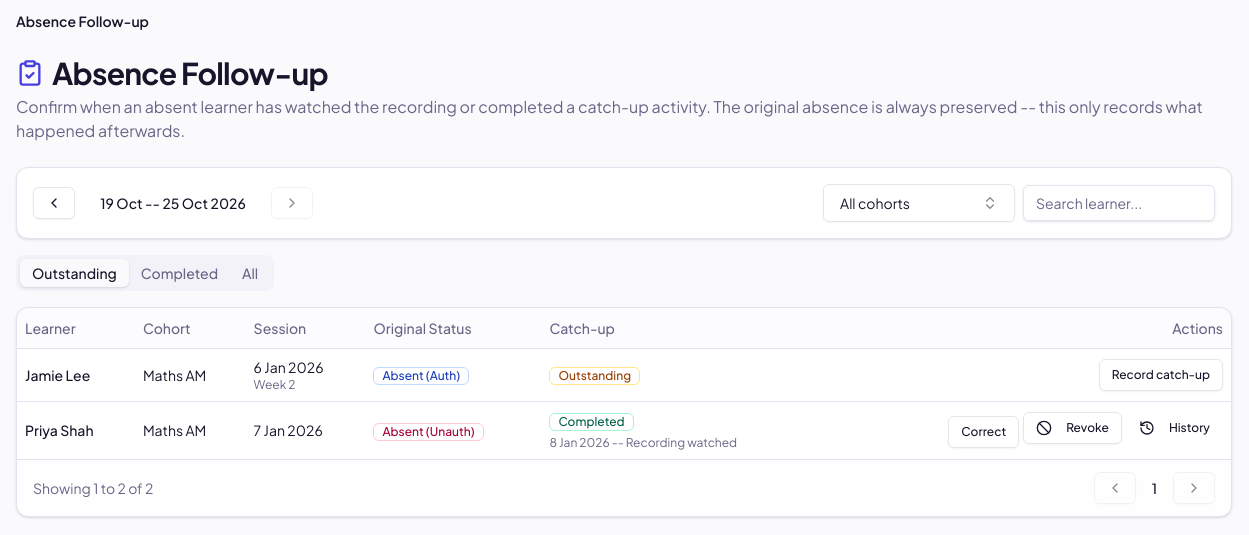
Test case: CatchupFollowUpPage › navigates to the previous week and back to the current week
Expected: the text "This week" is not shown
Click the button named "Previous week" at x=54, y=203, box [33,187,75,219]
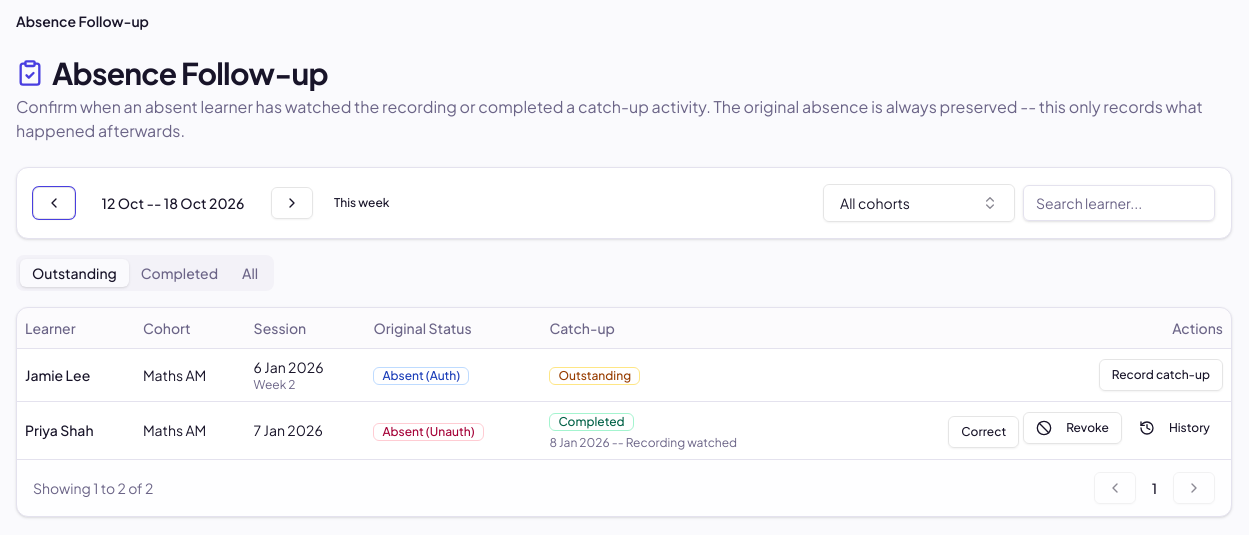
Expected: the button "This week" is shown
Click the button "This week" at x=362, y=203, box [321,187,402,219]
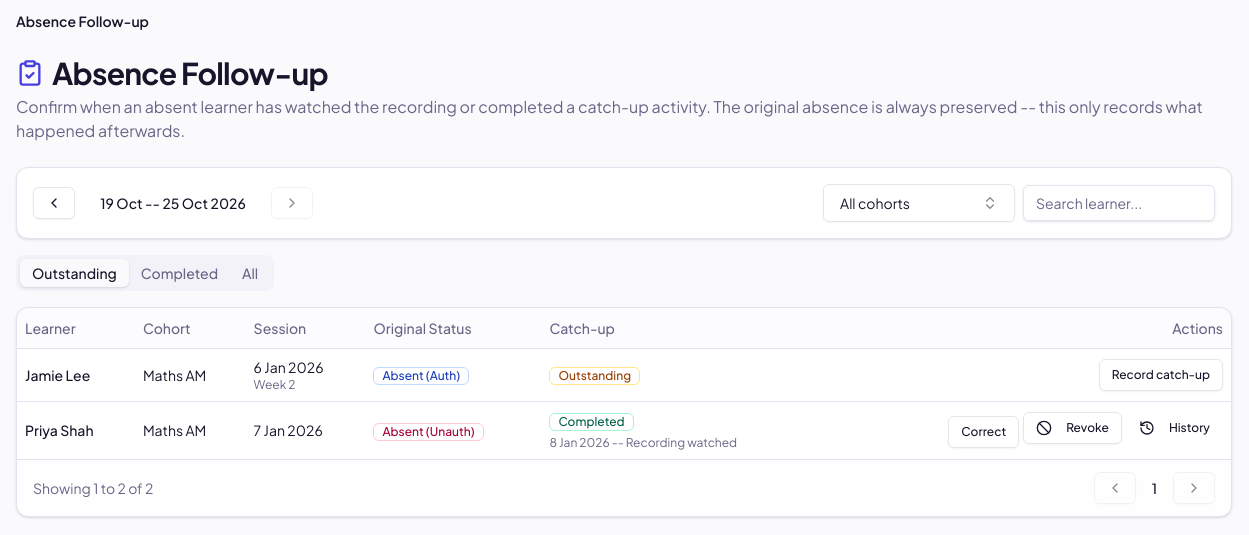
Expected: the button "This week" is gone
